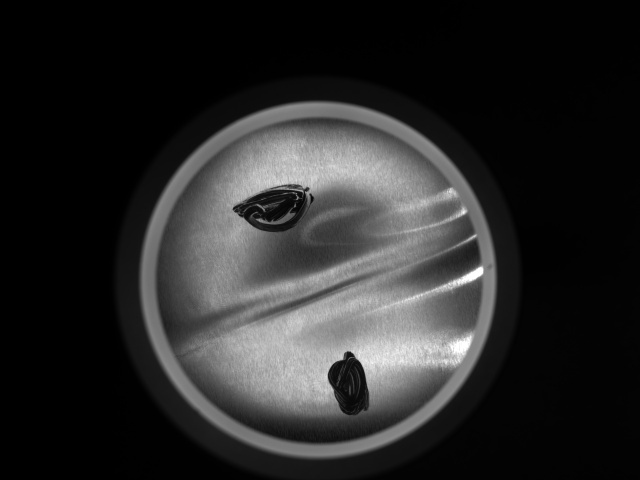zang_wu: (229, 182, 322, 238), (327, 348, 373, 418)
zhe_zhou: (194, 152, 444, 406)
